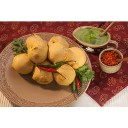bonda: (27, 42, 48, 64), (55, 65, 75, 87), (33, 63, 53, 85), (49, 42, 68, 65), (68, 45, 85, 70), (13, 55, 32, 73)
